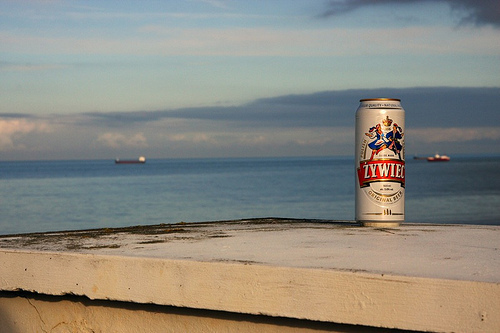litter: (354, 96, 406, 228)
